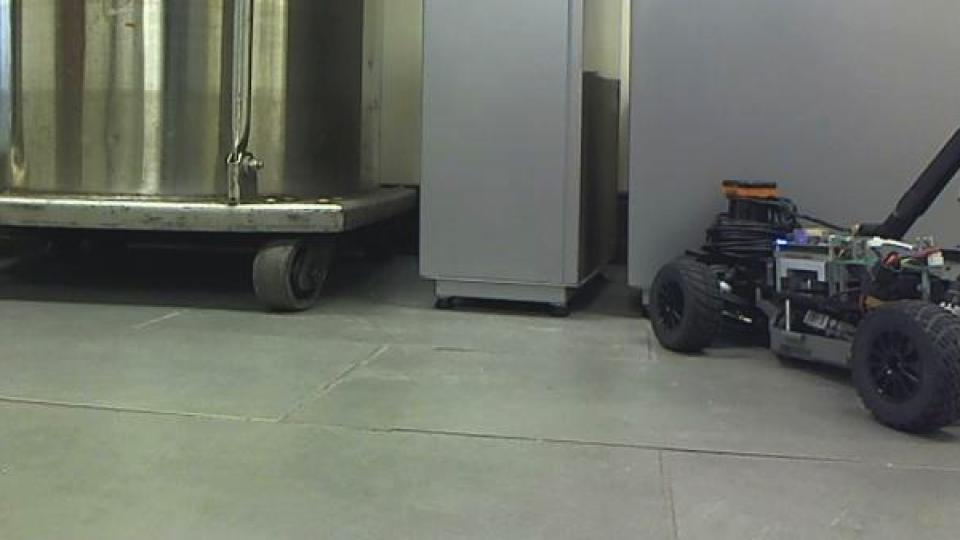car: (0, 0, 421, 313), (643, 122, 960, 436)
